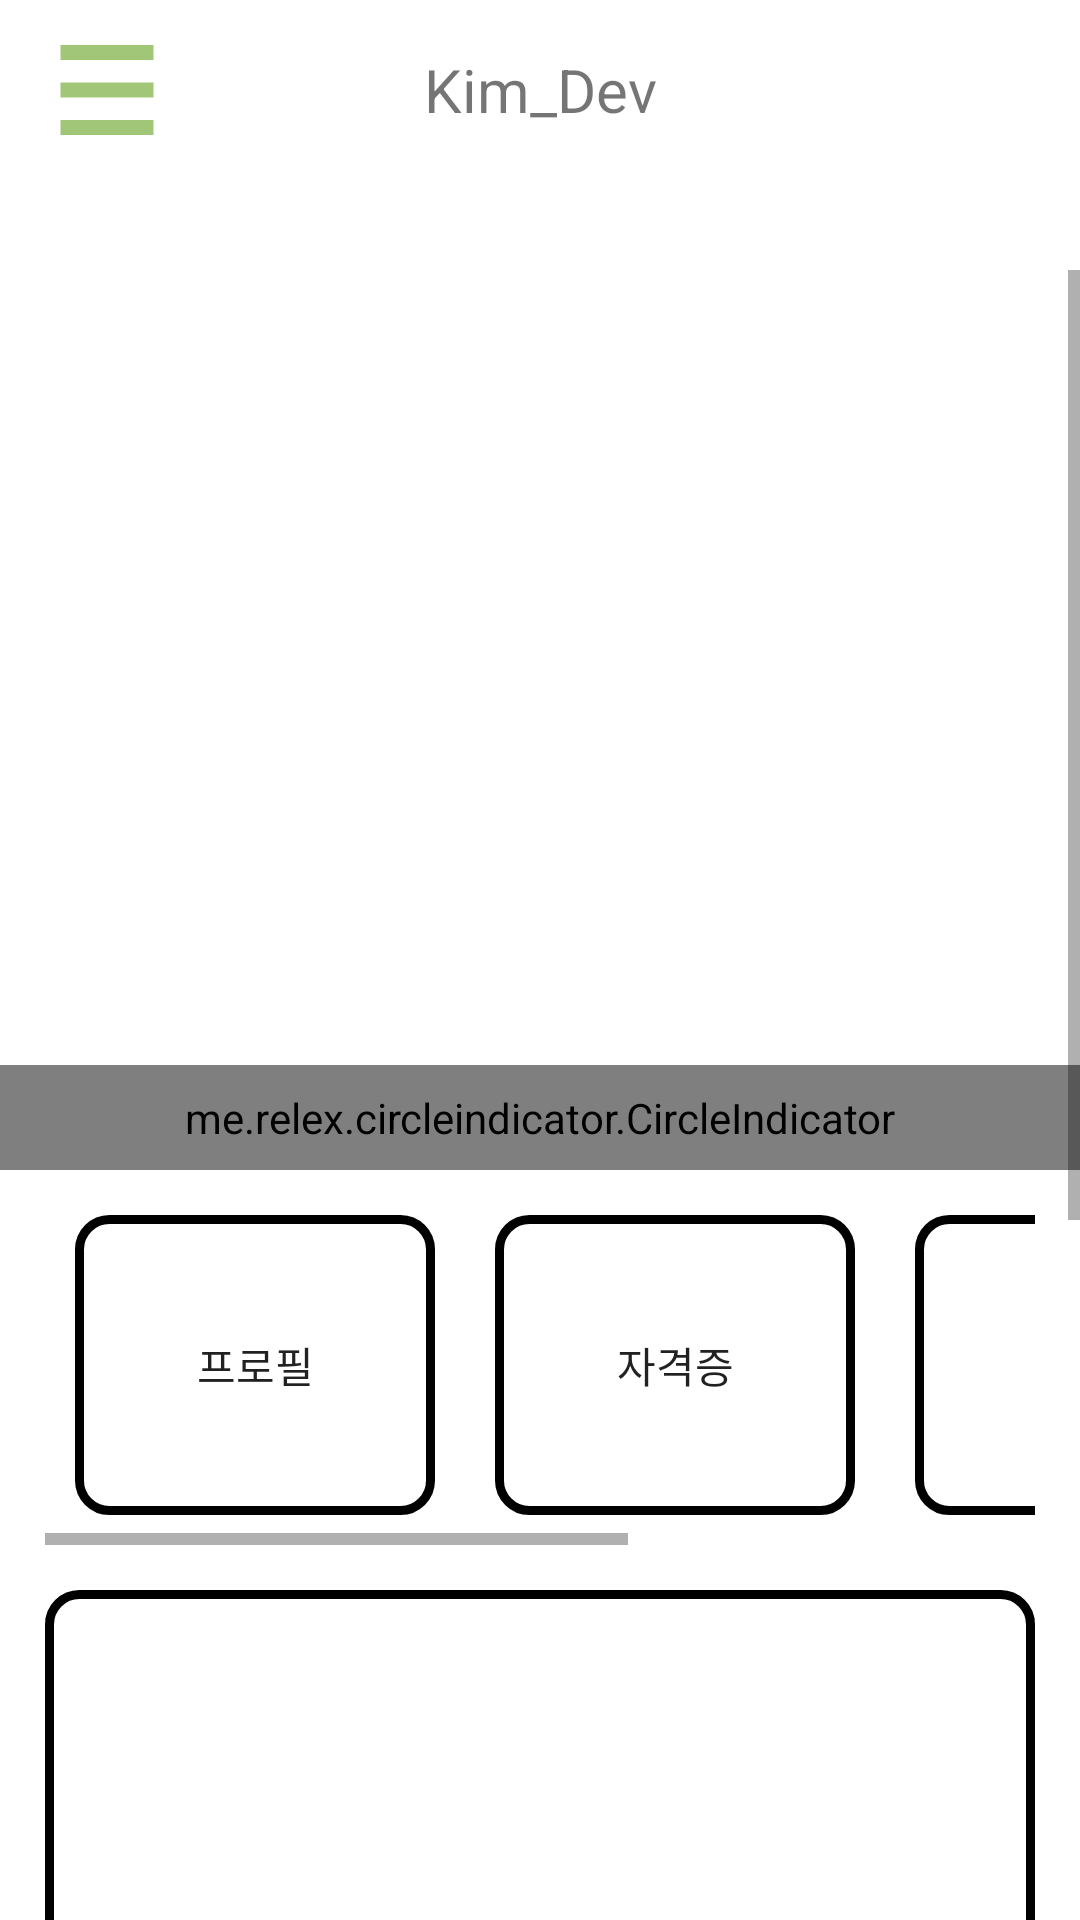

Screen size 1080w x 1920h. Icon name, then its box in pixels as (x1, y1, x2, y2):
menu: (60, 45, 154, 135)
